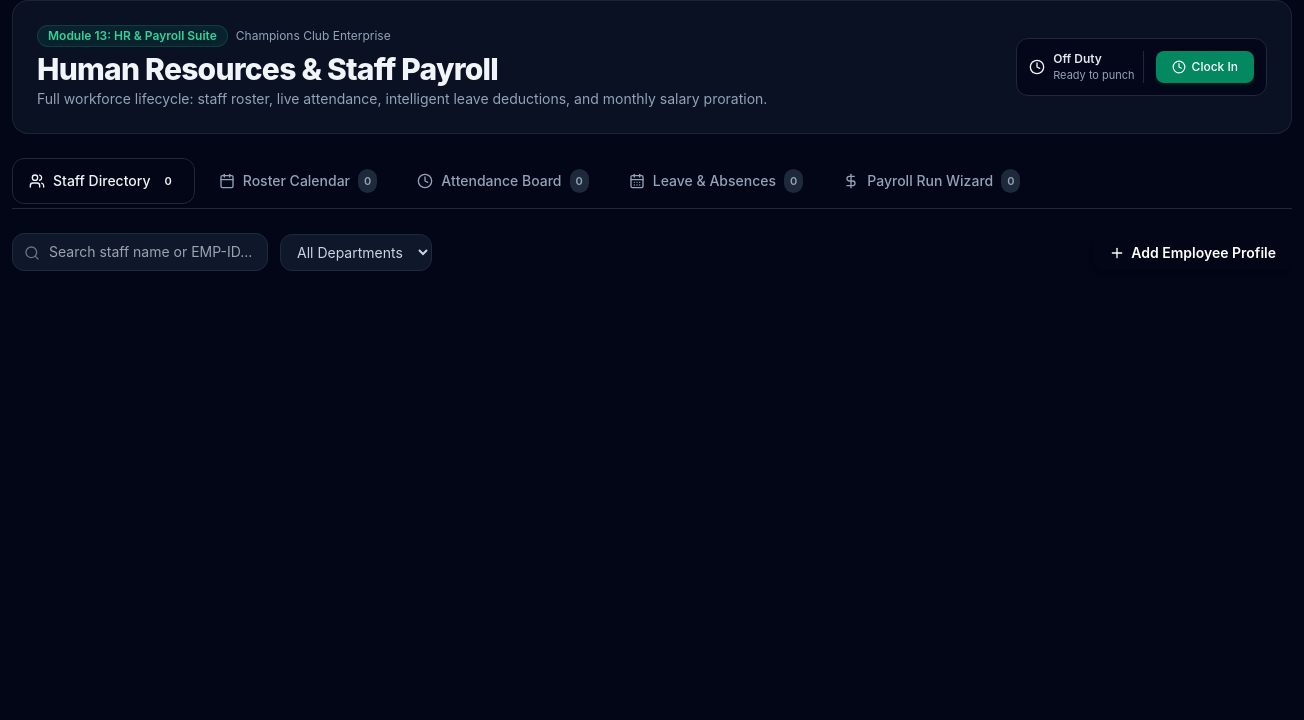
Test case: HR & Payroll Frontend Module › navigates to Payroll Run Wizard and displays financial KPIs and payslip diff
Step 1. Click the button "Payroll Run Wizard 0" → (932, 181), box [827,159,1036,203]
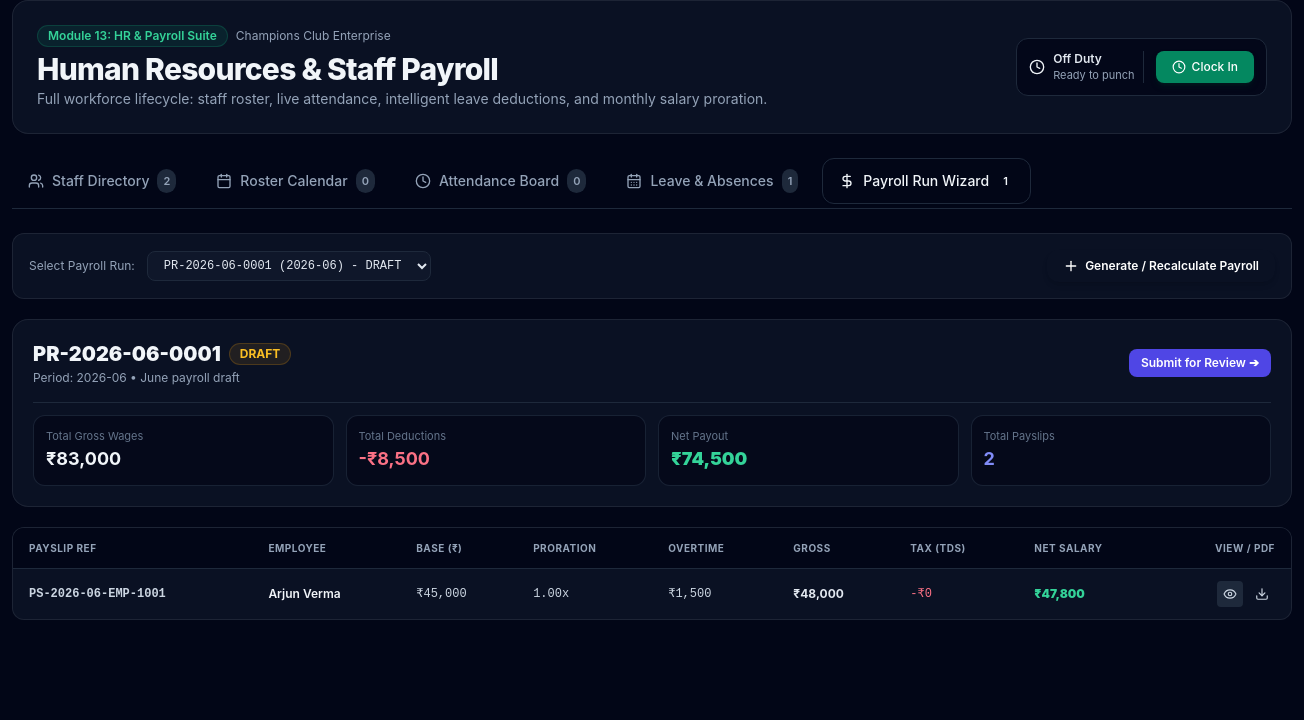
Now the text "PR-2026-06-0001" is shown, box [33,340,221,368]
Now the text "₹83,000" is shown, box [46,448,121,468]
Now the text "₹74,500" is shown, box [671,448,747,468]
